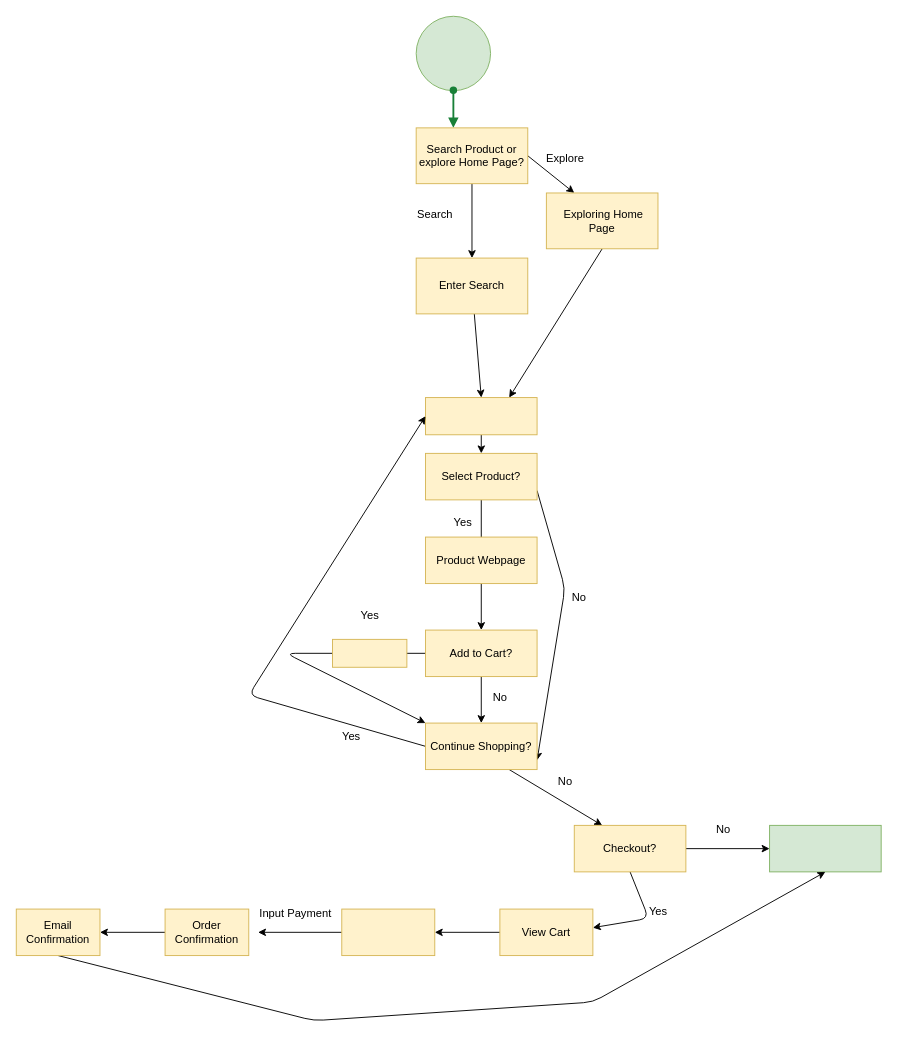
Some shapes in this 897 by 1044 pixel diagram are drawn without their labels. The centre of each missing label's shape, as x and y in pixels:
"Cart Confirmaton" goes at [369,652].
"Leave Site" goes at [825,848].
"User Enters Website" goes at [453,53].
"View Payment Info" goes at [388,932].
"View Products" goes at [481,416].
